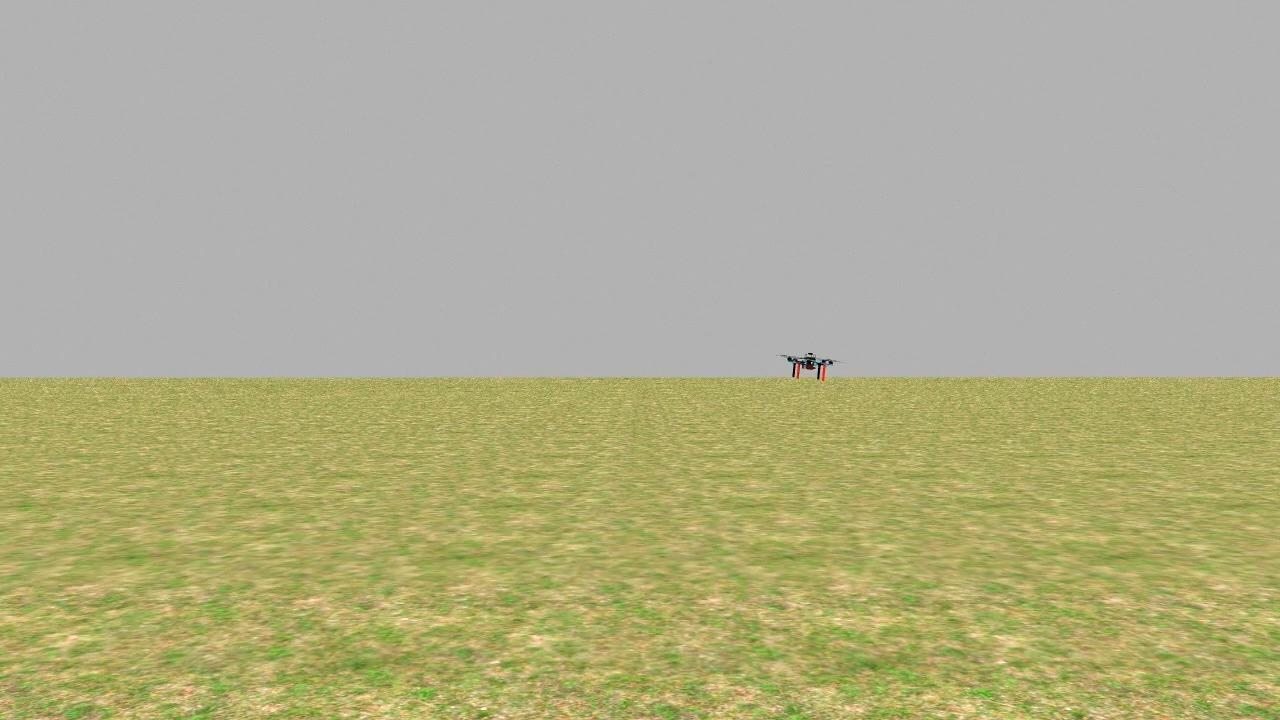UAV: (771, 342, 847, 389)
